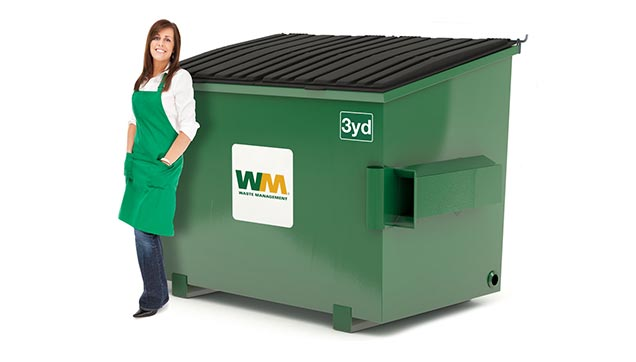Dumpster: (170, 12, 522, 339)
Person: (120, 18, 200, 322)
